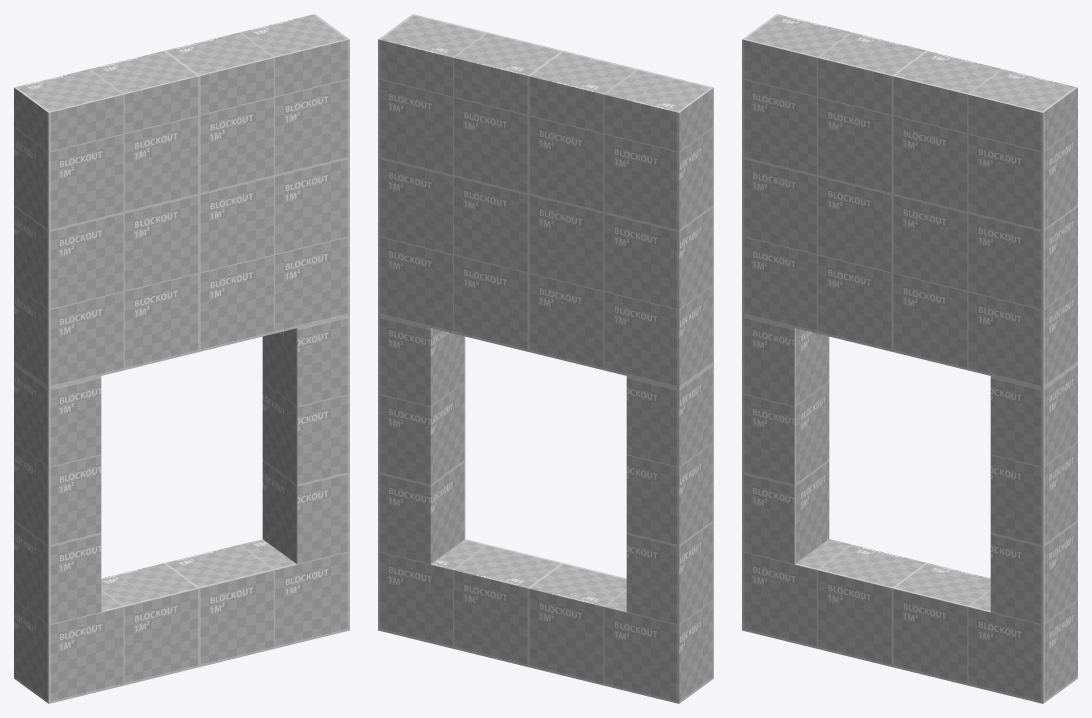
File: BlockoutThickWall04WindowLow.fbx
3 views of the same model, side by side, from view 1: azimuth 30°, elevation 25°; view 2: azimuth 150°, elevation 25°; view 3: azimuth 330°, elevation 25° (orthographic).
Visible parts, largest first — view 1: BlockoutThickWall04WindowLow; view 2: BlockoutThickWall04WindowLow; view 3: BlockoutThickWall04WindowLow.
Boxes of the visible parts, x1,y1,x2,y2 form: BlockoutThickWall04WindowLow: (14,14,349,703); BlockoutThickWall04WindowLow: (378,14,713,703); BlockoutThickWall04WindowLow: (742,14,1077,703).
Bounding box in the file's own units: 400 × 750 × 80.
